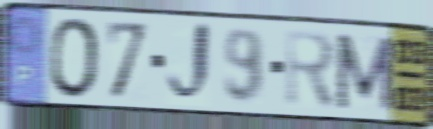7: (104, 17, 151, 102)
9: (222, 26, 266, 108)
J: (164, 18, 214, 108)
M: (333, 30, 396, 114)
O: (48, 14, 101, 101)
R: (284, 26, 339, 113)
